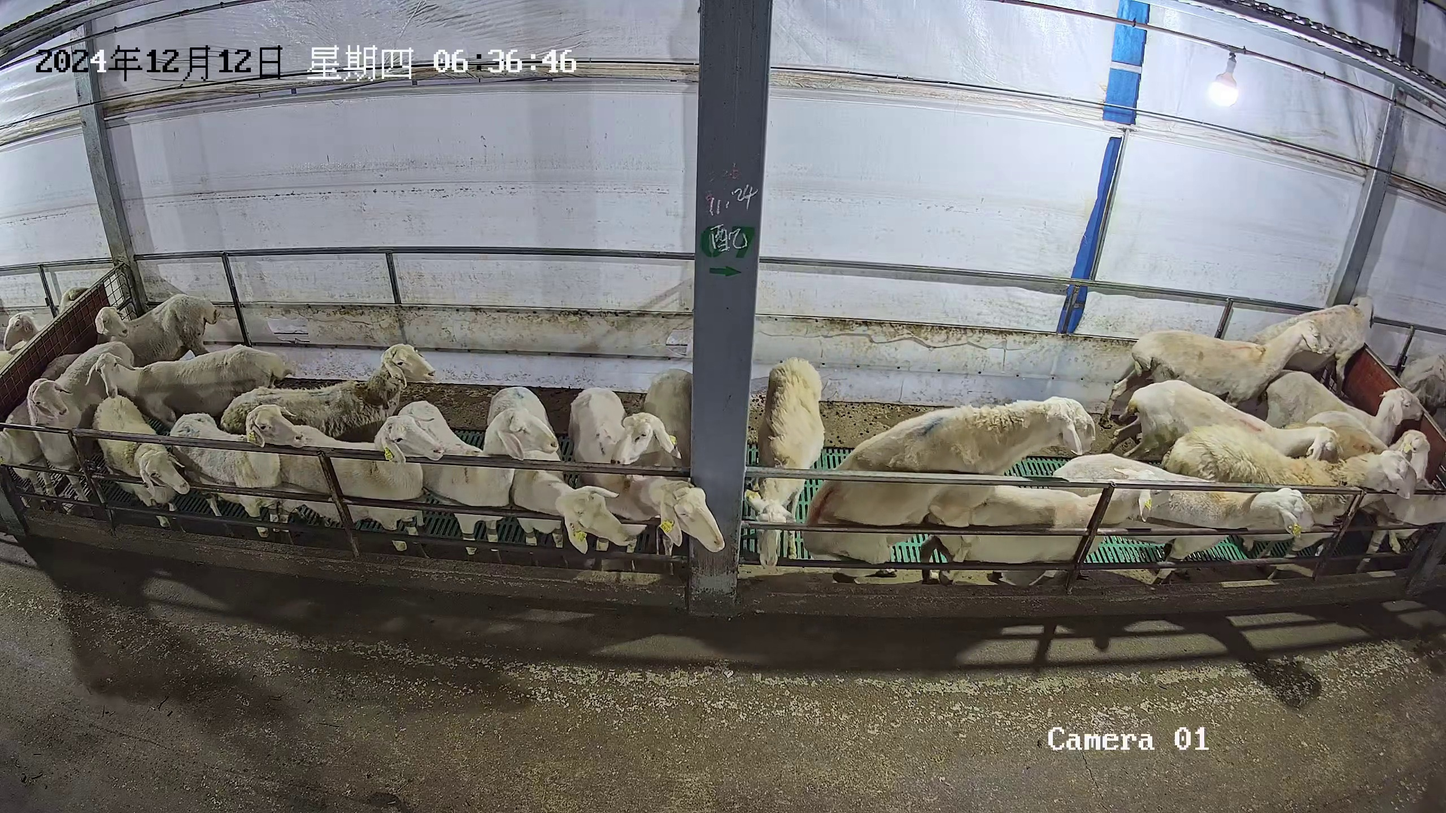Smounting: (798, 392, 1177, 589)
mounted: (909, 460, 1174, 585)
